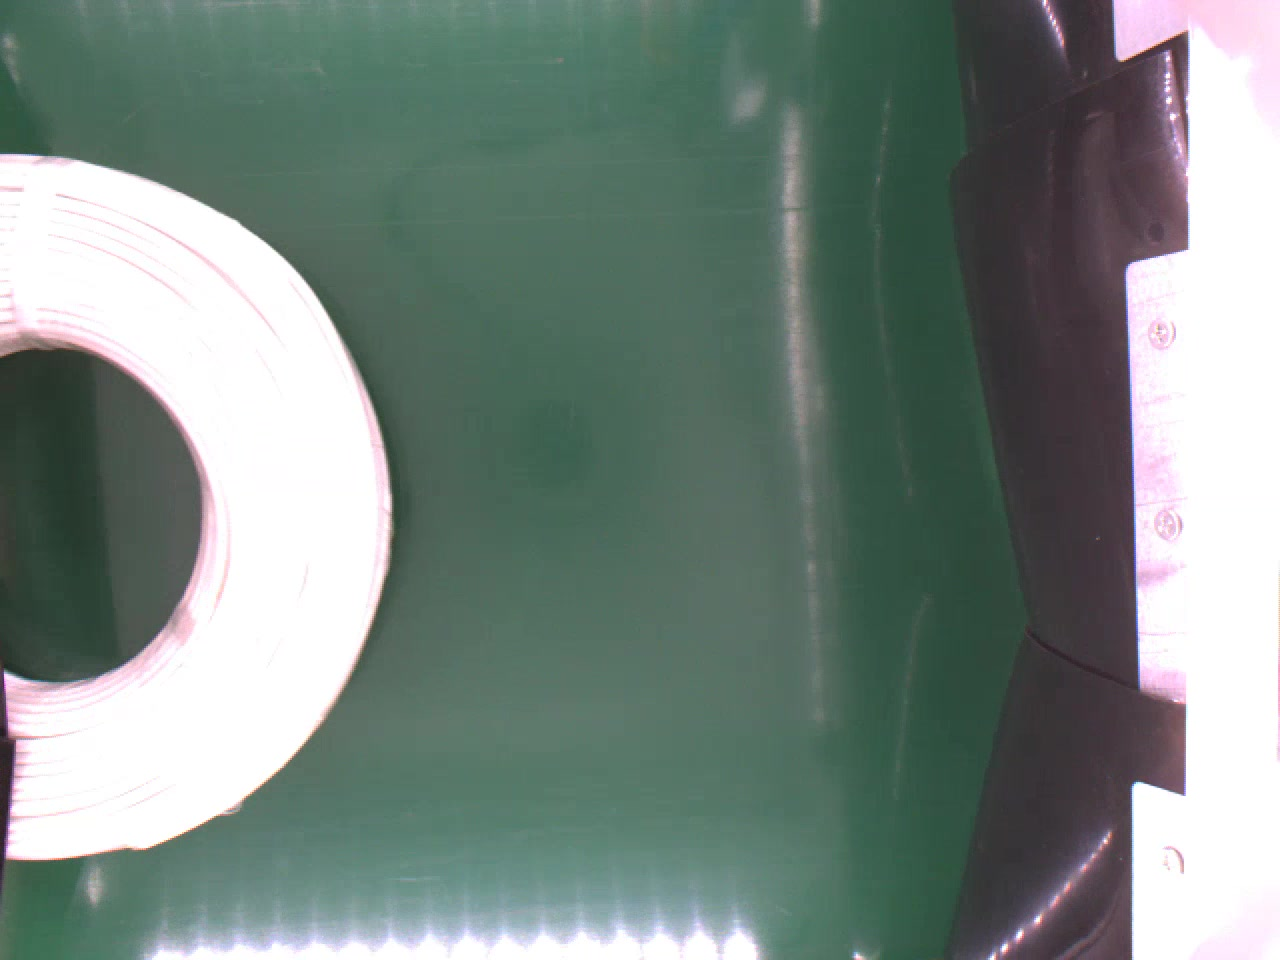white: (0, 150, 391, 868)
